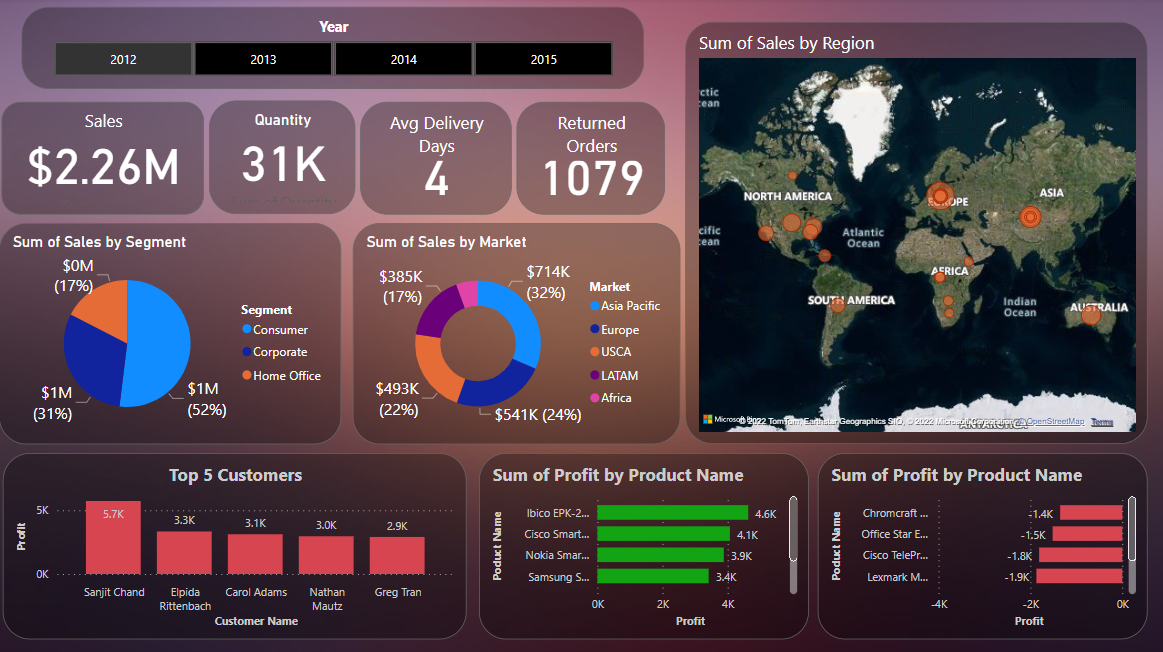

The page's visual inventory and layout, read from the dashboard file:
{"tool":"powerbi","page":{"name":"Page 1","canvas":[1280,720],"ordinal":0},"visuals":[{"type":"card","title":"Sales","fields":{"Values":["Sum(Orders.Sales)"]},"box":[2.7,114,222.5,123.6],"z":0},{"type":"card","title":"Quantity","fields":{"Values":["Sum(Orders.Quantity)"]},"box":[230.7,112.6,160.7,125],"z":1000},{"type":"card","title":"Avg Delivery Days","fields":{"Values":["Avg(Orders.Delivery Days)"]},"box":[396.9,114,166.2,123.6],"z":2000},{"type":"slicer","title":"Year","fields":{"Values":["Orders.Year"]},"box":[24.7,9.6,683.9,90.6],"z":3000},{"type":"card","title":"Returned Orders","fields":{"Values":["Sum(Returns.Return order)"]},"box":[568.6,114,163.4,123.6],"z":4000},{"type":"map","fields":{"Category":["Orders.Region"],"Size":["Sum(Orders.Sales)"]},"box":[754,26.1,508.2,464.2],"z":5000},{"type":"clusteredBarChart","fields":{"Category":["Orders.Product Name"],"Y":["Sum(Orders.Profit)"]},"box":[527.4,499.9,362.6,204.6],"z":6000},{"type":"clusteredBarChart","fields":{"Category":["Orders.Product Name"],"Y":["Sum(Orders.Profit)"]},"box":[899.6,499.9,362.6,204.6],"z":7000},{"type":"pieChart","fields":{"Category":["Orders.Segment"],"Y":["Sum(Orders.Sales)"]},"box":[0,247.2,376.3,243.1],"z":8000},{"type":"donutChart","fields":{"Category":["Orders.Market"],"Y":["Sum(Orders.Sales)"]},"box":[388.7,247.2,359.8,243.1],"z":8001},{"type":"columnChart","title":"Top 5 Customers","fields":{"Category":["Orders.Customer Name"],"Y":["Sum(Orders.Profit)"]},"box":[4.1,499.9,509.5,204.6],"z":8002}]}

Visuals, with their boxes in screenshot pixels (x1, y1, x2, y2), scaled from the page's 1280x720 canvas onto the 1163x652 screenshot:
"Sales" card: crop(2, 103, 205, 215)
"Quantity" card: crop(210, 102, 356, 215)
"Avg Delivery Days" card: crop(361, 103, 512, 215)
"Year" slicer: crop(22, 9, 644, 91)
"Returned Orders" card: crop(517, 103, 665, 215)
map - Orders.Region x Sum(Orders.Sales): crop(685, 24, 1147, 444)
clusteredBarChart - Orders.Product Name x Sum(Orders.Profit): crop(479, 453, 809, 638)
clusteredBarChart - Orders.Product Name x Sum(Orders.Profit): crop(817, 453, 1147, 638)
pieChart - Orders.Segment x Sum(Orders.Sales): crop(0, 224, 342, 444)
donutChart - Orders.Market x Sum(Orders.Sales): crop(353, 224, 680, 444)
"Top 5 Customers" columnChart: crop(4, 453, 467, 638)
